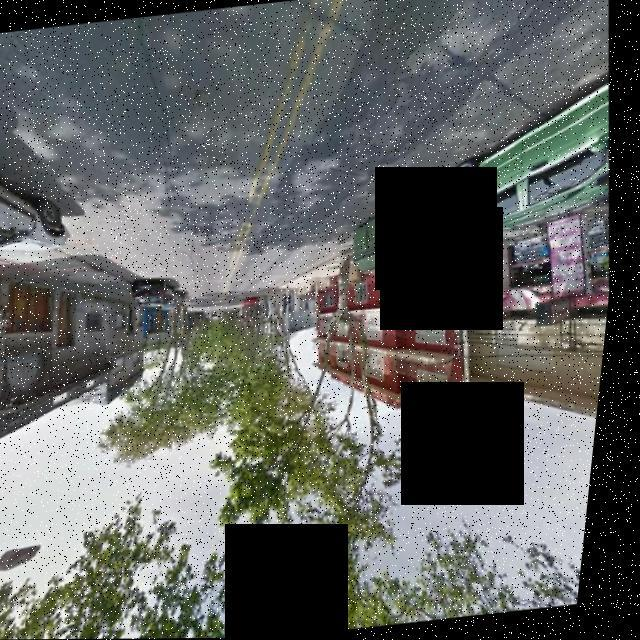bin: (340, 194, 431, 278)
